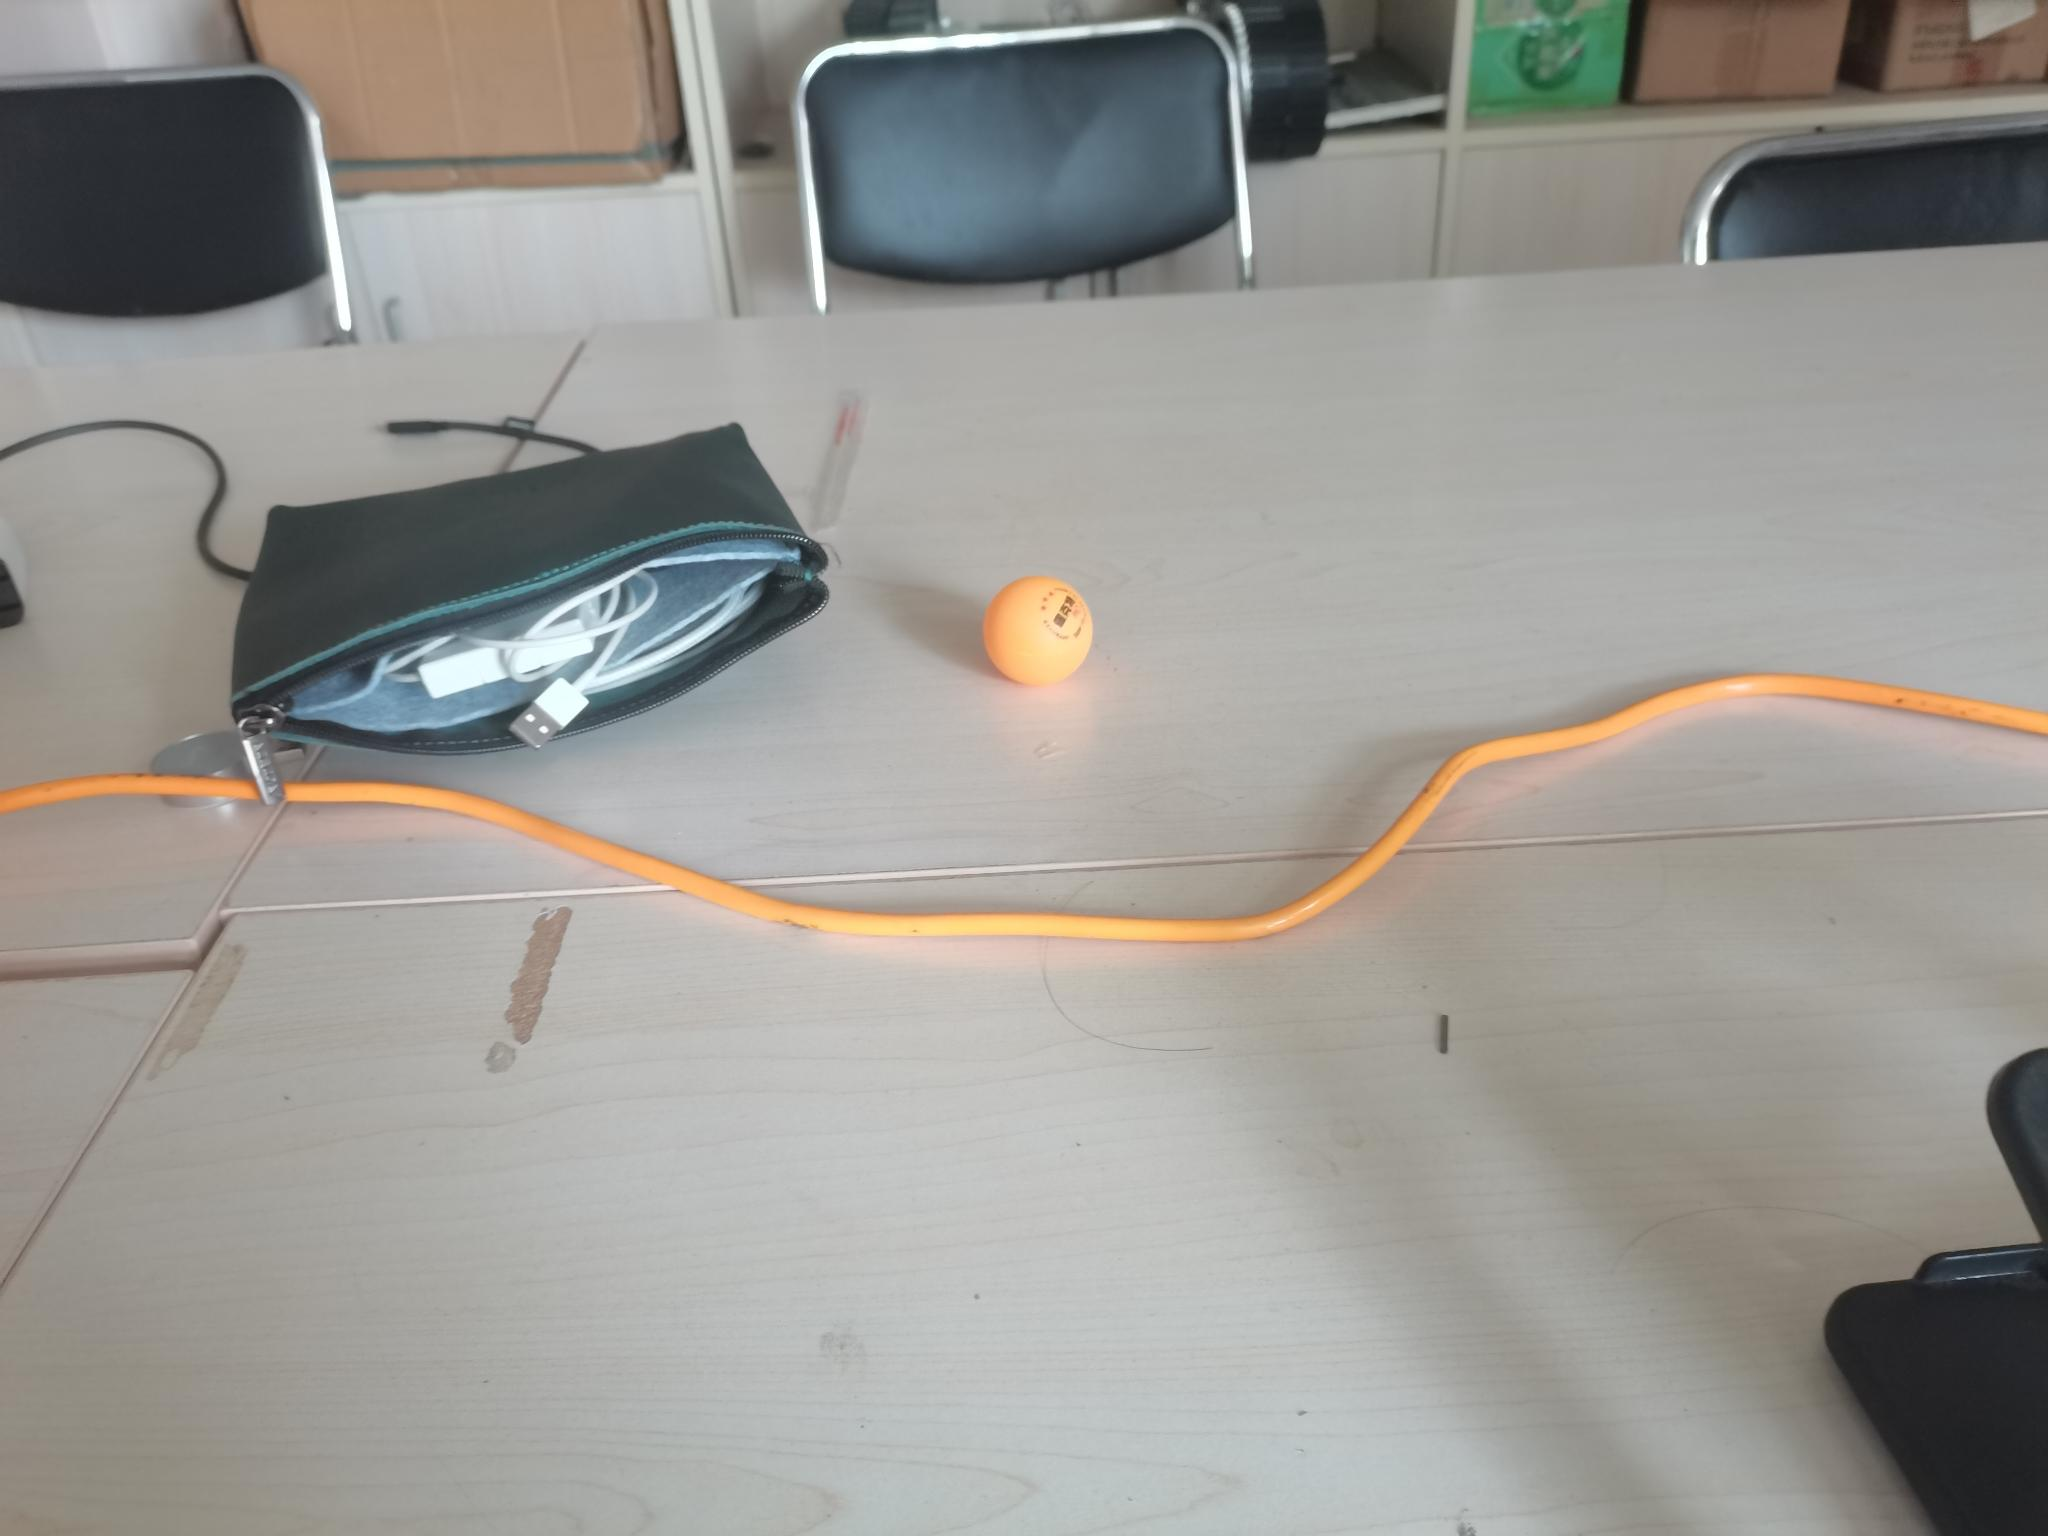ball: (984, 573, 1095, 687)
